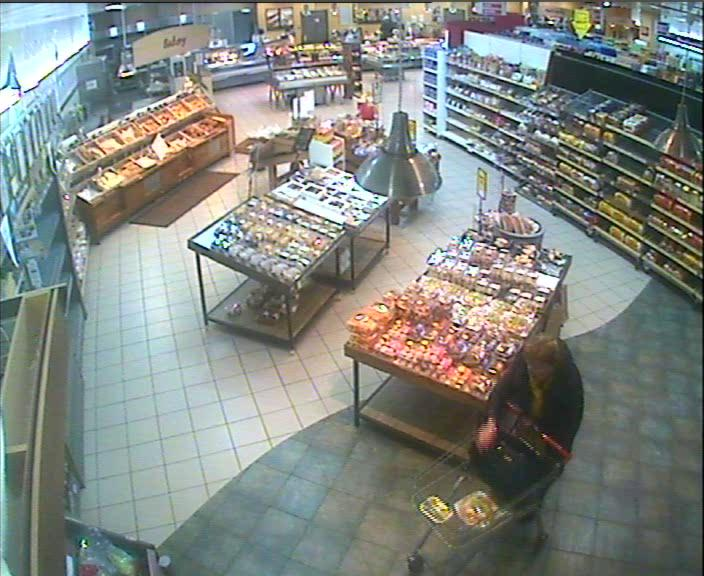backpack-or-handbag: (476, 429, 542, 494)
filled-trolly: (409, 401, 572, 576)
person: (478, 333, 584, 502)
person-with-basket-trolly-and-backpack-handbag: (408, 333, 584, 576)
